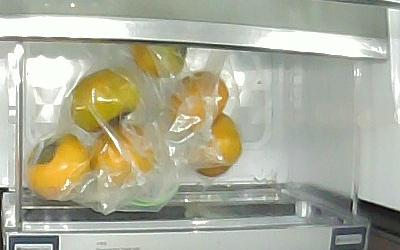persimmon_vinyl: (69, 68, 140, 133), (92, 126, 158, 190), (26, 133, 89, 200), (189, 112, 243, 178), (168, 71, 228, 127), (129, 41, 190, 80)
